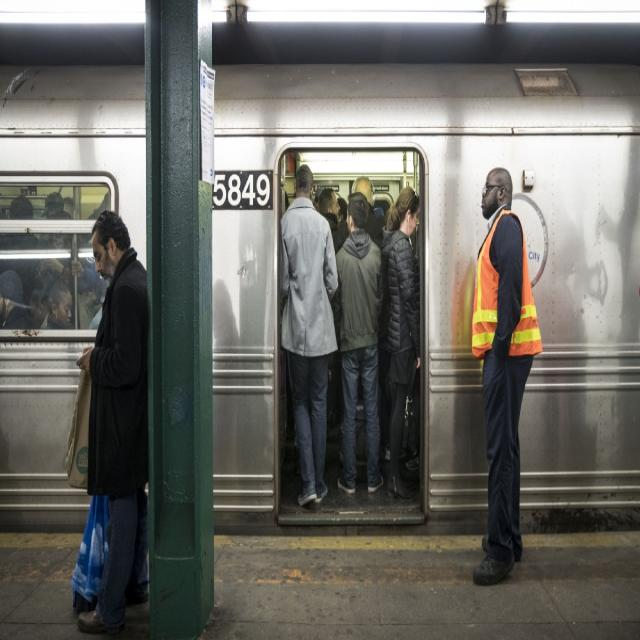body: (459, 163, 546, 589), (74, 208, 151, 634), (277, 163, 339, 509), (0, 180, 110, 336), (329, 190, 385, 496), (380, 185, 428, 502), (452, 232, 486, 489), (210, 271, 237, 494), (332, 174, 384, 251), (317, 187, 345, 250), (335, 190, 349, 227), (409, 226, 420, 263), (308, 185, 318, 212), (373, 200, 386, 218)
